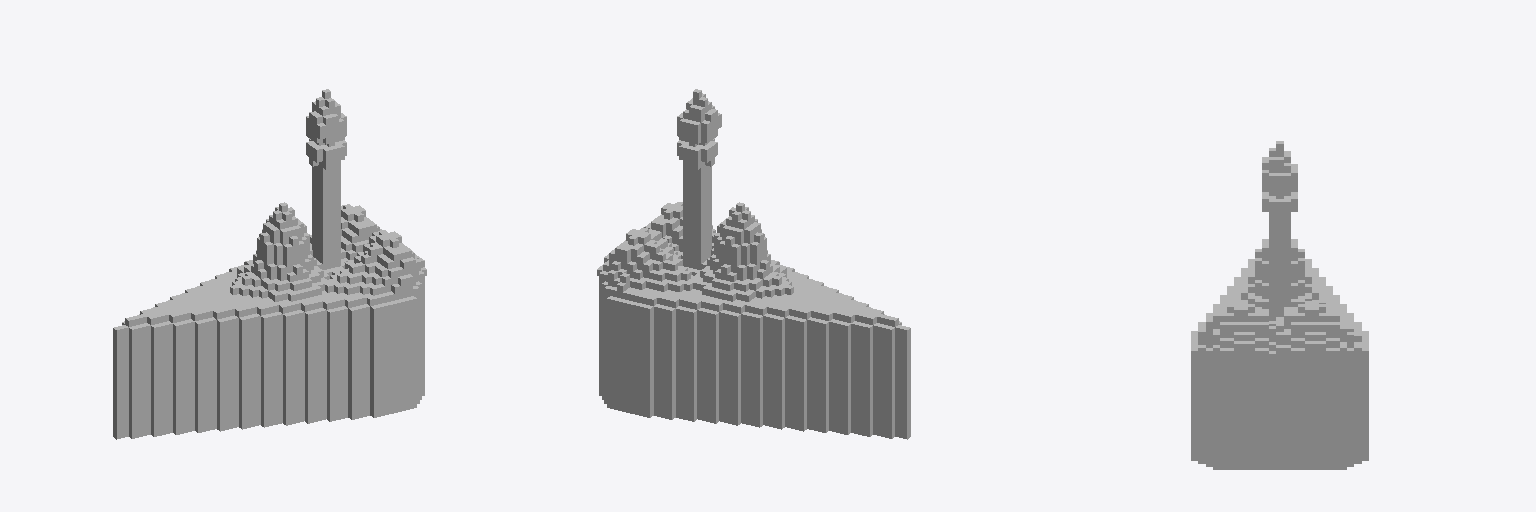
Rendered from cake.obj.
3 renders of one model, left to right at view 1: azimuth 30°, elevation 25°; view 2: azimuth 150°, elevation 25°; view 3: azimuth 270°, elevation 25°, orthographic.
Visible parts, largest first — view 1: object 1; view 2: object 1; view 3: object 1.
Boxes of the visible parts, <box> form: object 1: <box>113,89,426,439</box>; object 1: <box>597,89,910,439</box>; object 1: <box>1191,141,1368,469</box>.
Size of the model in its own units: 4.6 by 4.6 by 2.5.